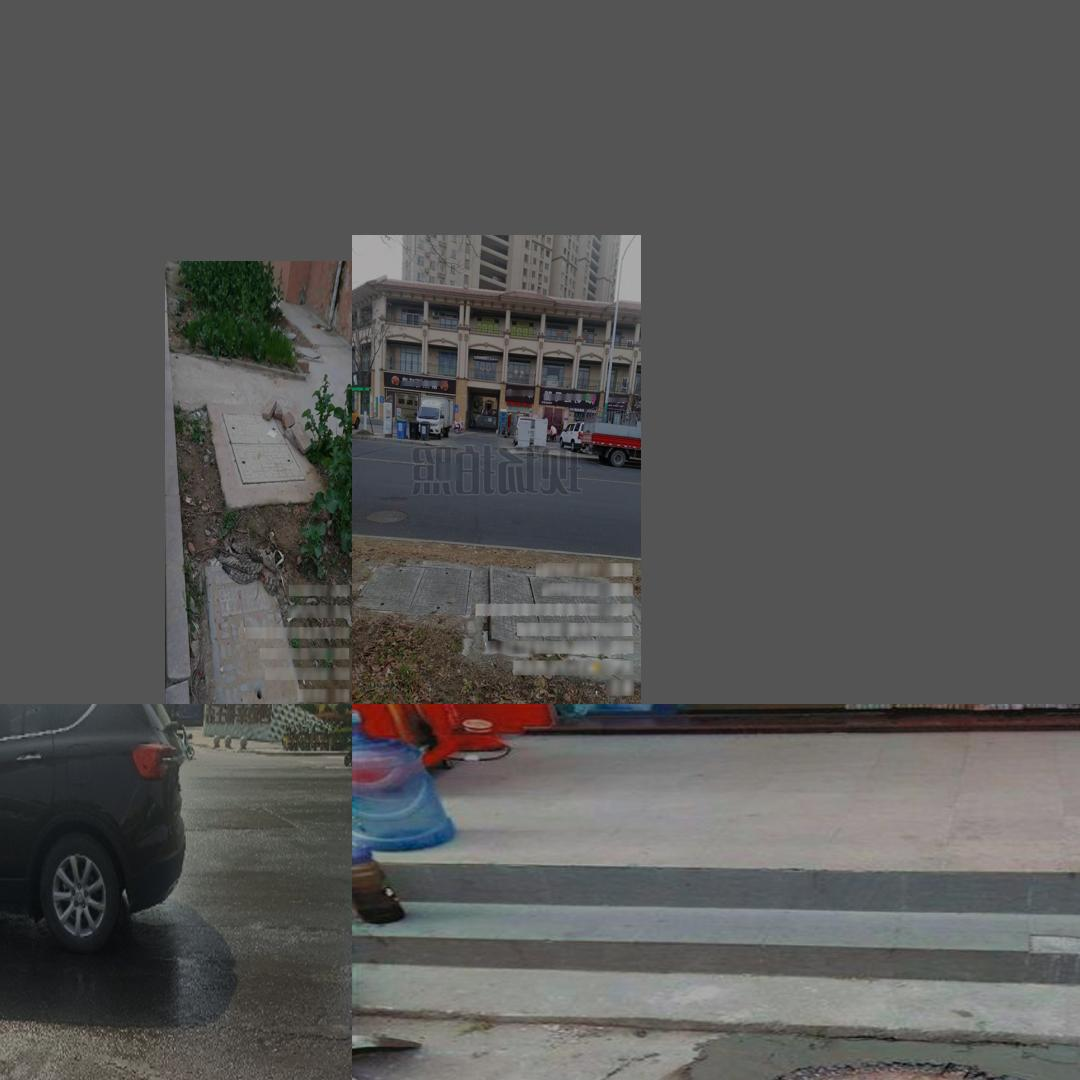good: (648, 1034, 1080, 1080), (203, 562, 304, 704), (352, 560, 474, 622), (222, 412, 306, 485)
uncovered: (484, 567, 638, 665)
